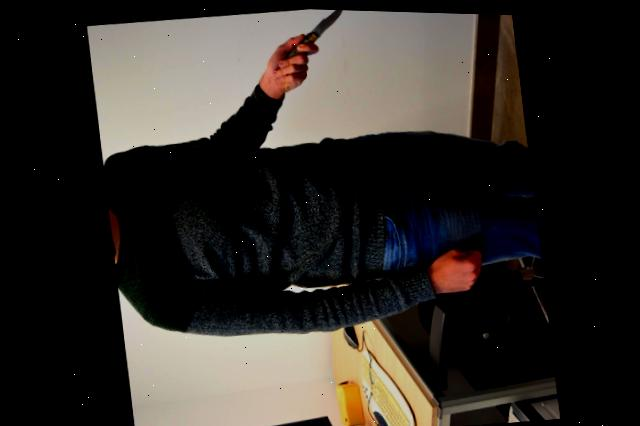pocket-knife: (268, 6, 354, 73)
